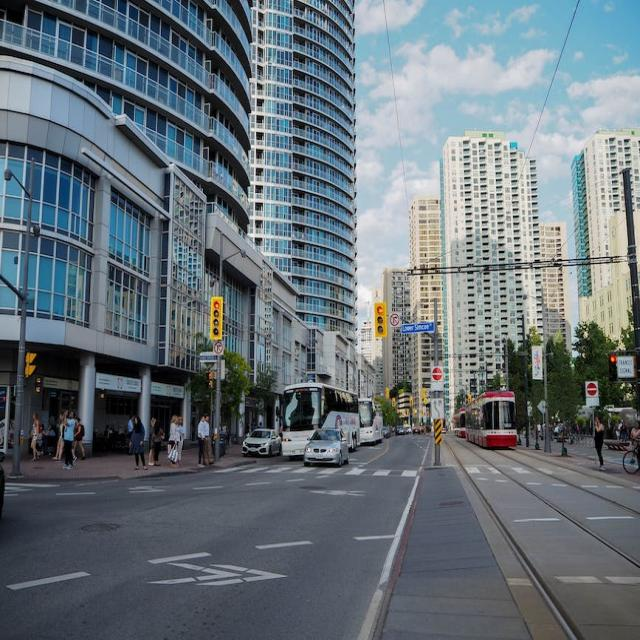no entry: (587, 382, 597, 397), (432, 367, 442, 381)
